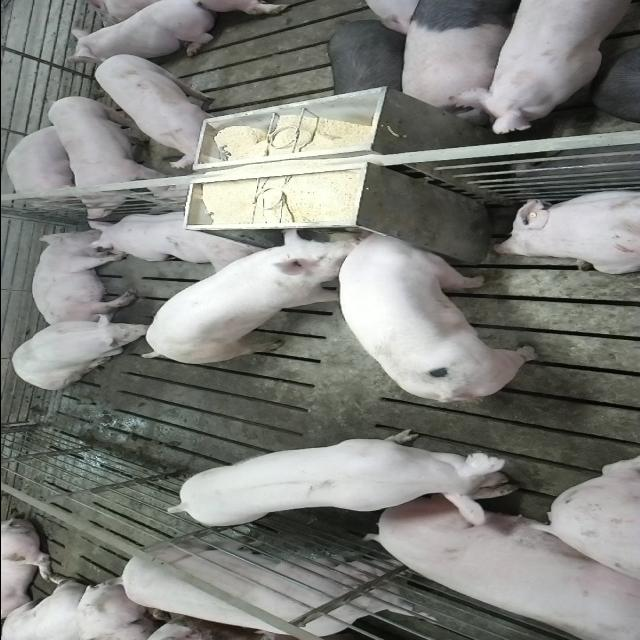Feeding: (340, 230, 544, 406), (137, 232, 367, 366)
Lateral_lying: (29, 229, 137, 327), (322, 18, 412, 110)
Sitting: (8, 312, 152, 390)
Standing: (168, 432, 532, 530), (105, 543, 427, 640), (451, 2, 640, 138), (92, 52, 236, 166), (42, 96, 172, 220), (399, 2, 527, 118)
Sternal_lying: (490, 185, 640, 272), (85, 208, 264, 268), (68, 1, 222, 59)
